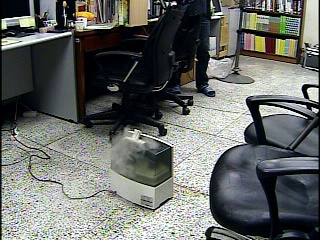smoke: (107, 130, 157, 179)
